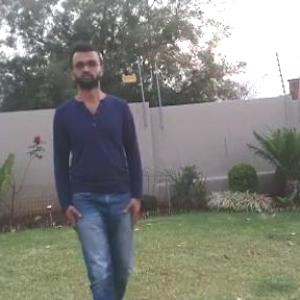follow: (56, 49, 143, 299)
